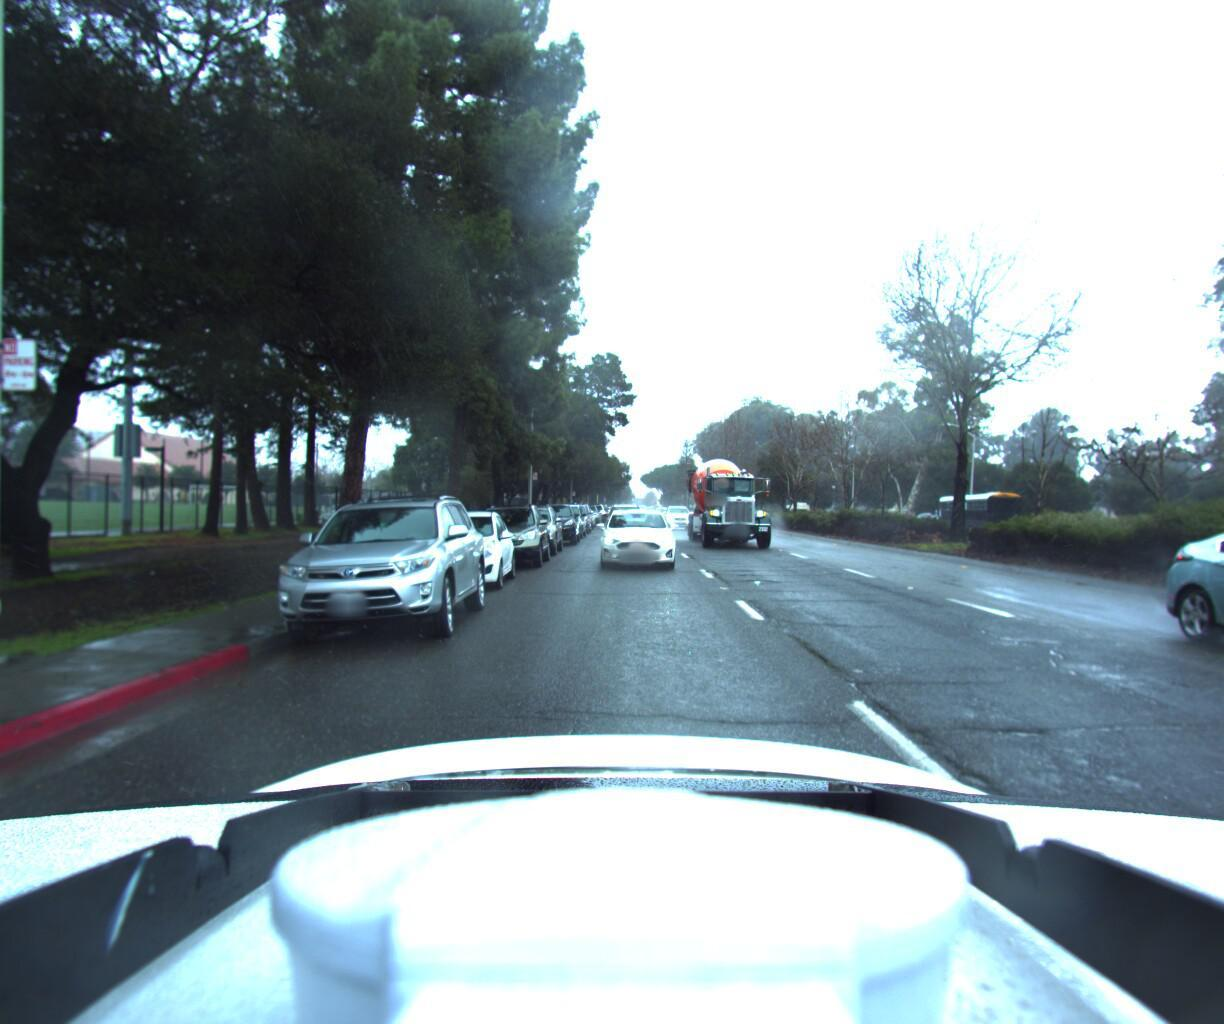bus: (926, 488, 1028, 540)
car: (245, 484, 487, 655), (397, 509, 514, 593), (454, 502, 545, 569), (597, 502, 677, 573), (489, 500, 560, 556), (521, 501, 577, 545), (660, 503, 693, 530)
truck: (679, 446, 784, 549)
